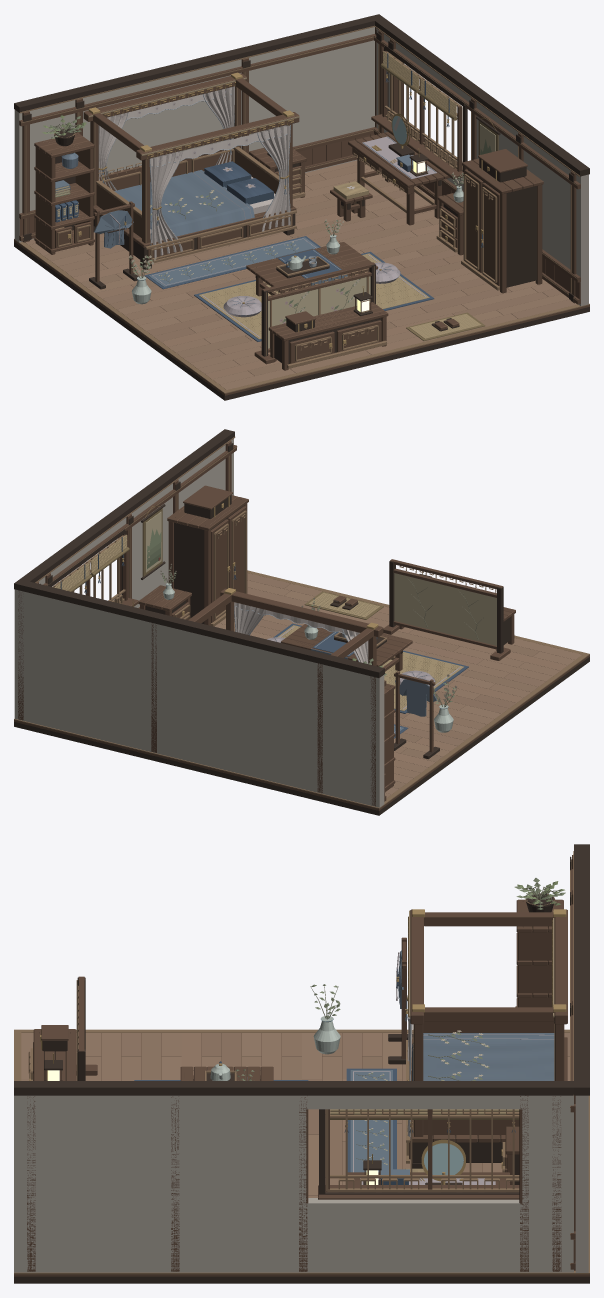
File: guest_quarters.glb
The picture shows the model from 3 angles, top to bottom: view 1: azimuth 30°, elevation 25°; view 2: azimuth 150°, elevation 25°; view 3: azimuth 270°, elevation 25°; orthographic projection. The views are drawn at different scales.
Visible parts, largest first — view 1: Guest_architecture_Guest_matte, Guest_bed_Guest_matte, Guest_wardrobe_Guest_matte, Guest_shelf_Guest_matte, Guest_window_Guest_matte, Guest_entry_cabinet_Guest_matte, Guest_screen_Guest_matte, Guest_dresser_Guest_matte, Guest_tea_mat_Guest_matte, Guest_bed_rug_Guest_matte, Guest_table_Guest_matte, Guest_clothes_rack_Guest_matte (+10 smaller); view 2: Guest_architecture_Guest_matte, Guest_wardrobe_Guest_matte, Guest_screen_Guest_matte, Guest_bed_Guest_matte, Guest_window_Guest_matte, Guest_table_Guest_matte, Guest_clothes_rack_Guest_matte, Guest_tea_mat_Guest_matte, Guest_wall_scroll_Guest_matte, Guest_entry_mat_Guest_matte, Guest_side_cabinet_Guest_matte, Guest_shelf_Guest_matte (+1 smaller); view 3: Guest_architecture_Guest_matte, Guest_bed_Guest_matte, Guest_window_Guest_matte, Guest_shelf_Guest_matte, Guest_bed_rug_Guest_matte, Guest_entry_cabinet_Guest_matte, Guest_mirror_Guest_metal, Guest_clothes_rack_Guest_matte, Guest_screen_Guest_matte, Guest_plant_left_Guest_matte, Guest_table_Guest_matte, Guest_plant_shelf_Guest_matte (+2 smaller).
Part boxes in pixels (x1,y1,x2,y2): Guest_architecture_Guest_matte: [14, 14, 589, 400]; Guest_bed_Guest_matte: [83, 73, 299, 269]; Guest_wardrobe_Guest_matte: [461, 149, 543, 293]; Guest_shelf_Guest_matte: [34, 132, 94, 254]; Guest_window_Guest_matte: [371, 45, 467, 179]; Guest_entry_cabinet_Guest_matte: [268, 302, 388, 370]; Guest_screen_Guest_matte: [254, 262, 375, 364]; Guest_dresser_Guest_matte: [348, 132, 450, 225]; Guest_tea_mat_Guest_matte: [194, 251, 434, 341]; Guest_bed_rug_Guest_matte: [144, 236, 320, 289]; Guest_table_Guest_matte: [246, 242, 377, 296]; Guest_clothes_rack_Guest_matte: [89, 201, 138, 289]; Guest_architecture_Guest_matte: [14, 429, 589, 815]; Guest_wardrobe_Guest_matte: [167, 485, 248, 626]; Guest_screen_Guest_matte: [383, 559, 510, 660]; Guest_bed_Guest_matte: [188, 588, 383, 666]; Guest_window_Guest_matte: [47, 529, 138, 606]; Guest_table_Guest_matte: [281, 624, 412, 671]; Guest_clothes_rack_Guest_matte: [394, 671, 439, 759]; Guest_tea_mat_Guest_matte: [273, 623, 468, 713]; Guest_wall_scroll_Guest_matte: [141, 504, 165, 579]; Guest_entry_mat_Guest_matte: [304, 591, 383, 619]; Guest_side_cabinet_Guest_matte: [138, 585, 191, 619]; Guest_shelf_Guest_matte: [384, 683, 395, 791]; Guest_architecture_Guest_matte: [14, 844, 589, 1283]; Guest_bed_Guest_matte: [405, 909, 567, 1168]; Guest_window_Guest_matte: [318, 1109, 519, 1199]; Guest_shelf_Guest_matte: [515, 899, 563, 1007]; Guest_bed_rug_Guest_matte: [346, 1068, 396, 1172]; Guest_entry_cabinet_Guest_matte: [28, 1025, 76, 1080]; Guest_mirror_Guest_metal: [419, 1139, 465, 1184]; Guest_clothes_rack_Guest_matte: [388, 937, 413, 1064]; Guest_screen_Guest_matte: [76, 976, 97, 1080]; Guest_plant_left_Guest_matte: [310, 984, 340, 1054]; Guest_table_Guest_matte: [180, 1066, 273, 1080]; Guest_plant_shelf_Guest_matte: [514, 878, 565, 912].
Bounding box in the file's own units: 8 × 3 × 8.
